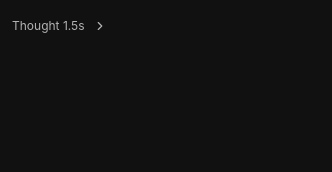
Test: provider thinking and tool disclosures › never opens or closes supplied thinking automatically as its phase changes
Expected: the text "Provider-supplied reasoning" is not shown
Click the button "Thought 1.5s" at (59, 26), box [12,12,106,40]
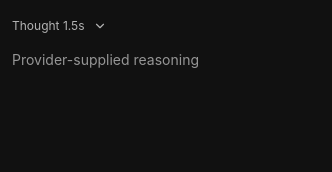
Now the text "Provider-supplied reasoning" is shown, box [12,51,199,68]
